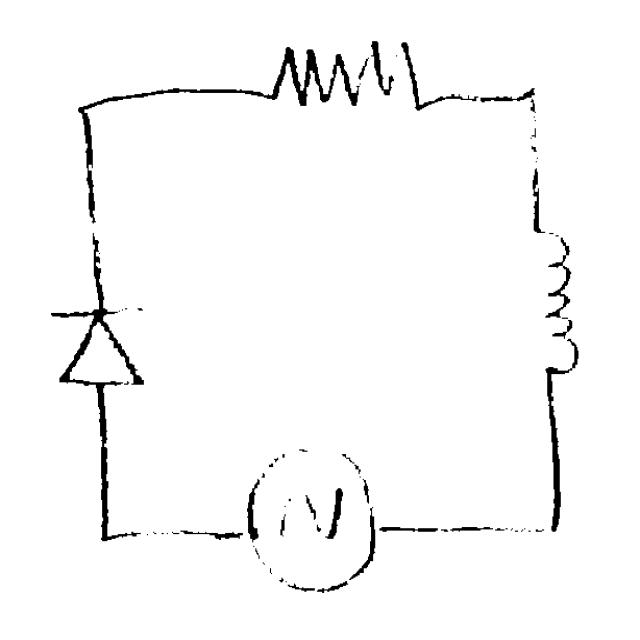ac: (225, 437, 384, 605), (44, 288, 160, 397)
inductor: (513, 204, 588, 400)
resistor: (256, 28, 440, 135)
